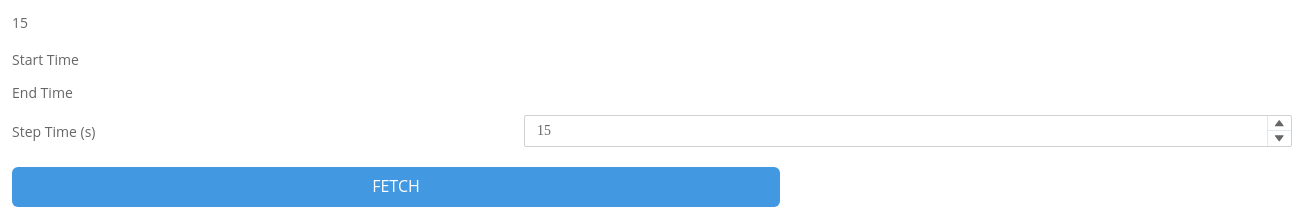
Test: TimeQuerier Component › fetch works
Step 1. Replace the text in the number field showing "15" with "20" → (908, 131), box [524, 115, 1292, 147]
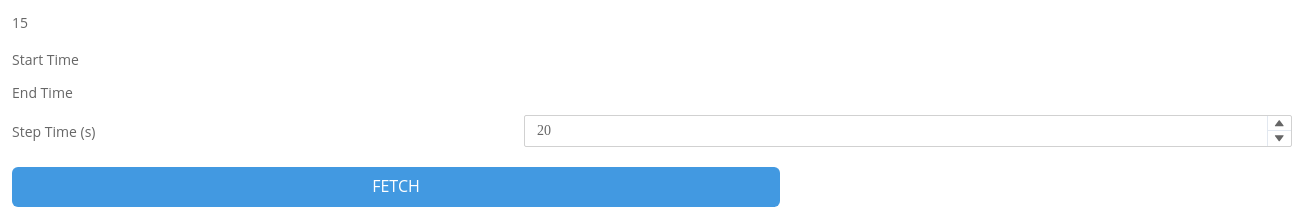
Step 2. Click the button with test id "fetch-button" → click(396, 187), box [12, 167, 780, 207]
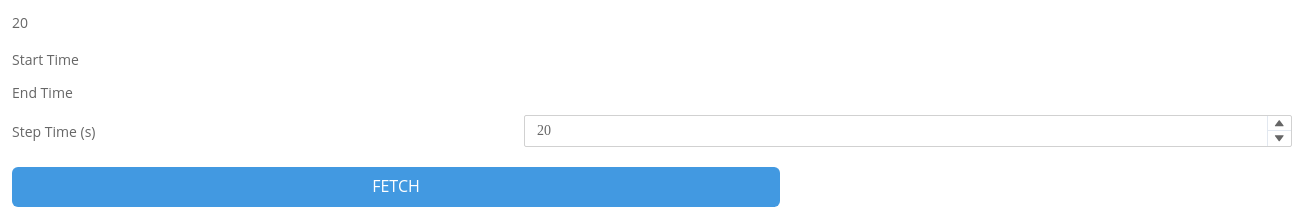
Expected: the text with test id "test" reads "20", [12, 13, 28, 32]
